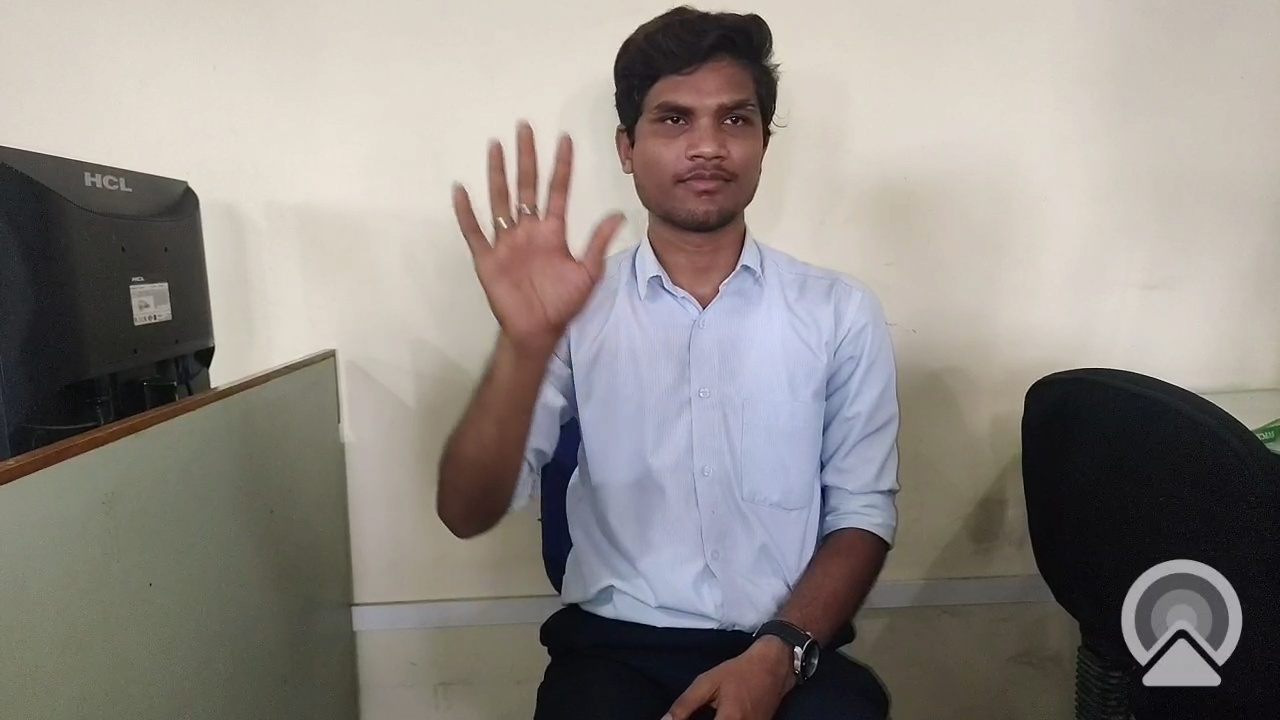Hello: (440, 105, 640, 372)
